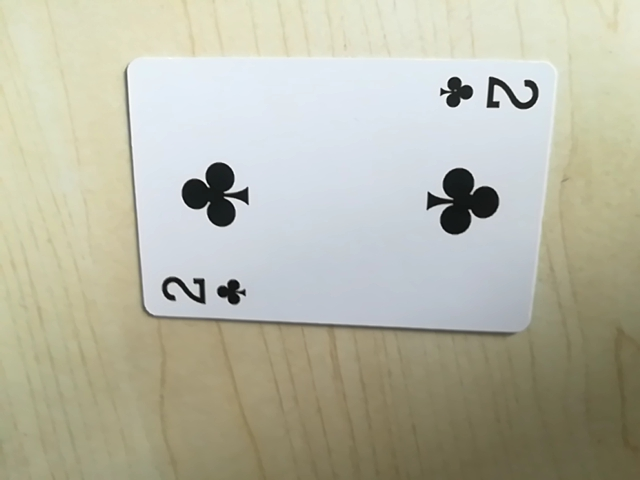mh 2: (435, 67, 543, 117), (153, 269, 252, 314)
